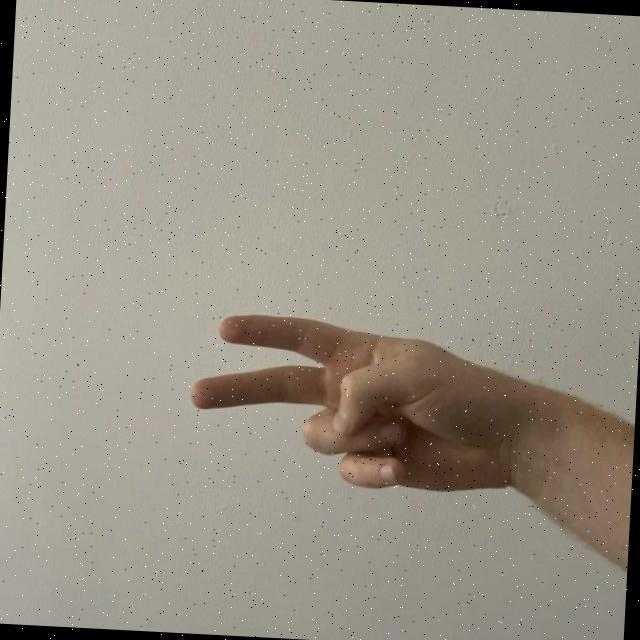scissors: (182, 304, 546, 502)
